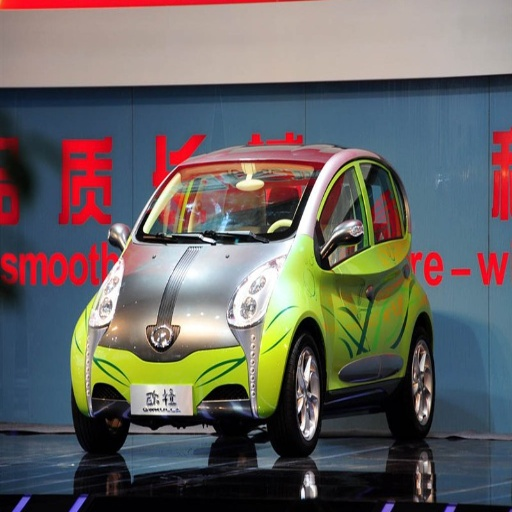front_bumper: (218, 341, 278, 418)
front_glass: (137, 162, 320, 239)
front_left_door: (313, 157, 381, 391)
trunk: (93, 301, 215, 406)
